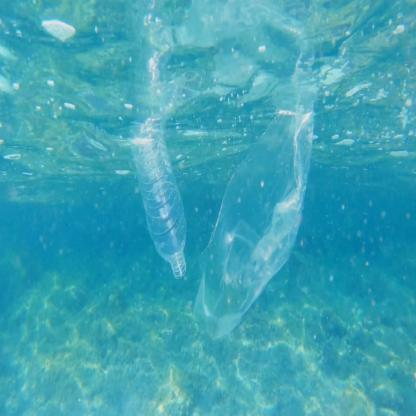Rác: (187, 117, 358, 325), (118, 113, 196, 284)
